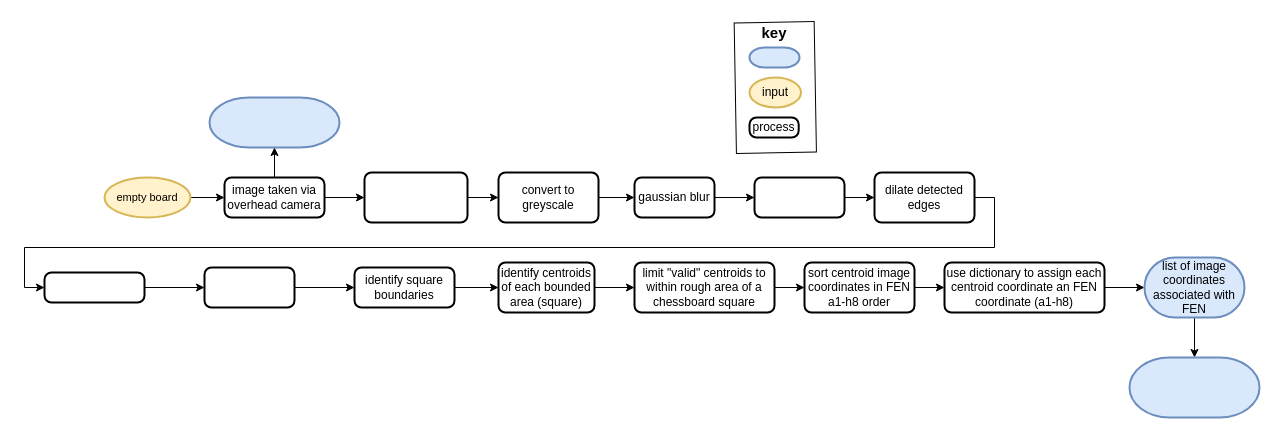
The diagram is 1278 pixels wide and 435 high, and some of its shapes have lost their labels. Here are the shapes that lost their labels. From the top down, the box of each, then its label:
(748, 46, 800, 68): output
(208, 96, 340, 148): image copy sent to piece identification code
(363, 171, 468, 223): image saved and read into MATLAB
(753, 176, 845, 218): canny edge detection
(43, 271, 145, 303): fill in "holes"
(203, 266, 295, 308): isolate squares
(1128, 356, 1260, 418): image coordinate list sent to piece identification code
